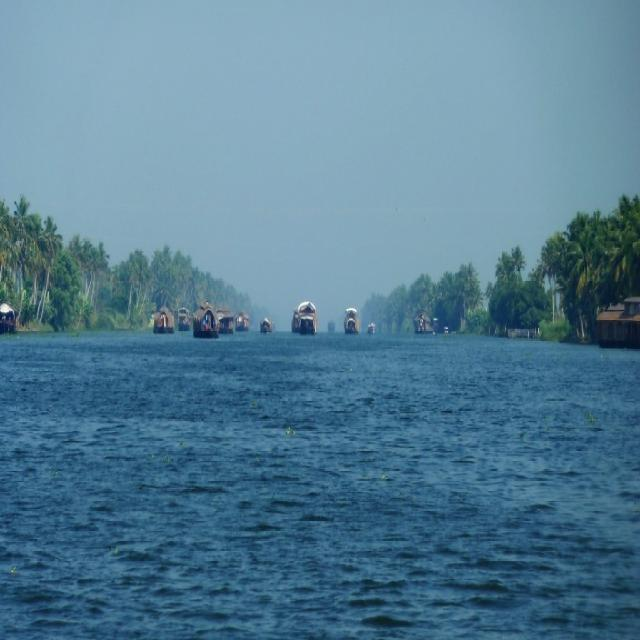boat: (290, 302, 323, 339), (193, 304, 222, 342), (150, 305, 176, 336), (339, 308, 365, 336), (412, 311, 439, 337), (231, 304, 254, 331), (257, 316, 275, 336), (366, 319, 382, 340)
